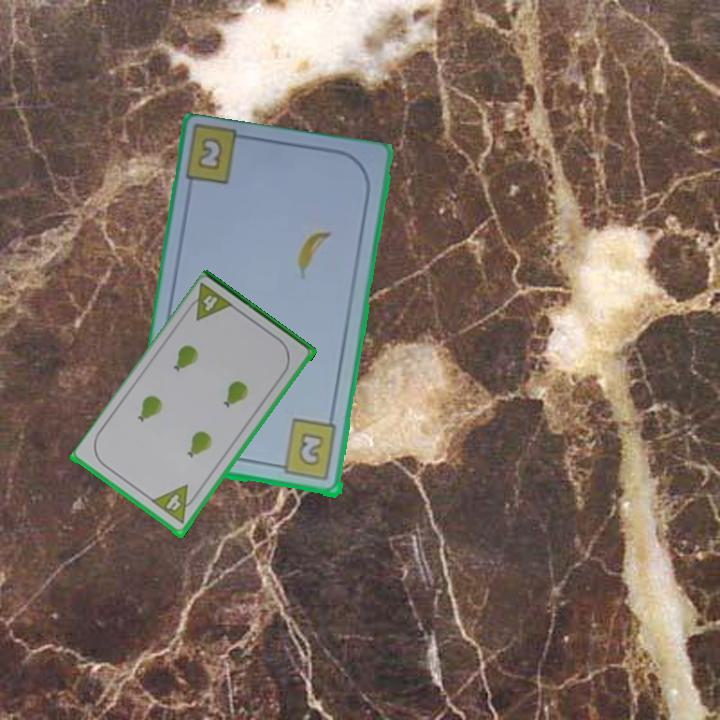2b: (272, 416, 340, 484), (197, 137, 224, 170)
4p: (182, 280, 237, 324), (149, 482, 201, 527)
